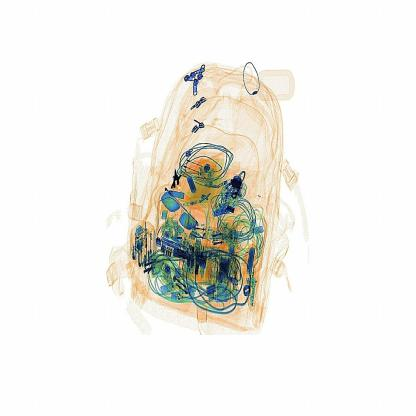gun: (162, 165, 186, 203)
